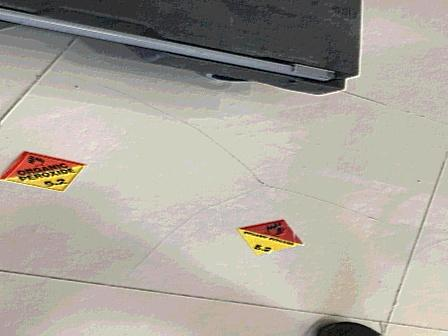organic-peroxide: (1, 150, 89, 193), (236, 219, 306, 256)
